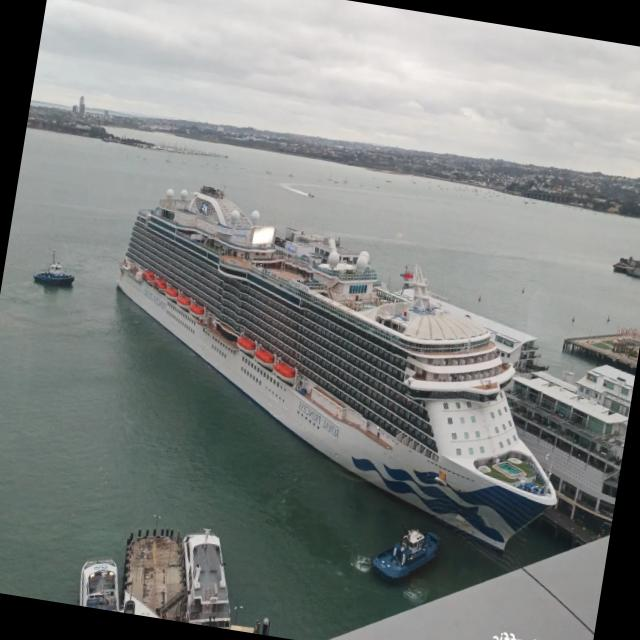Cruise: (119, 186, 557, 550)
Tug: (373, 530, 439, 580), (34, 249, 74, 286)
